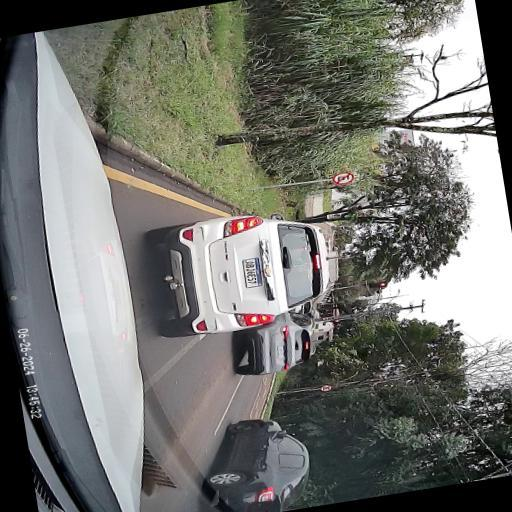R-6a: (330, 170, 356, 186)
R-6c: (317, 384, 332, 392)
